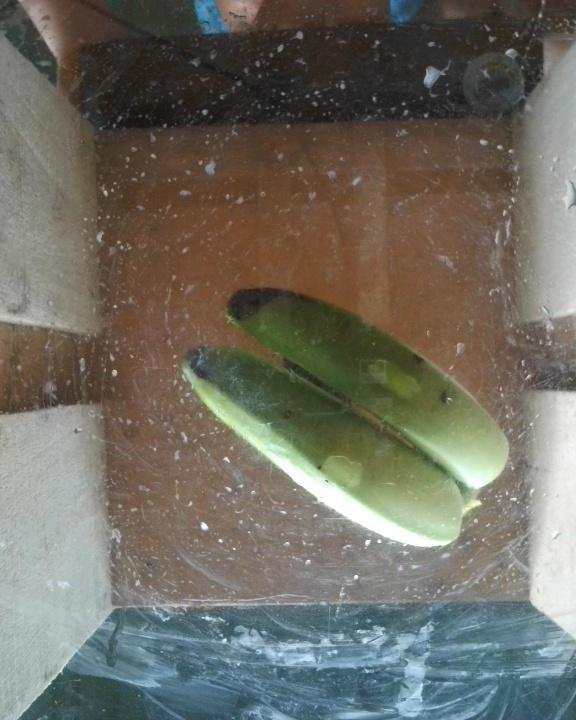CLASS B: (176, 281, 515, 556)
Class A: (238, 284, 293, 319), (184, 352, 219, 386), (427, 384, 463, 411), (402, 351, 431, 371)
